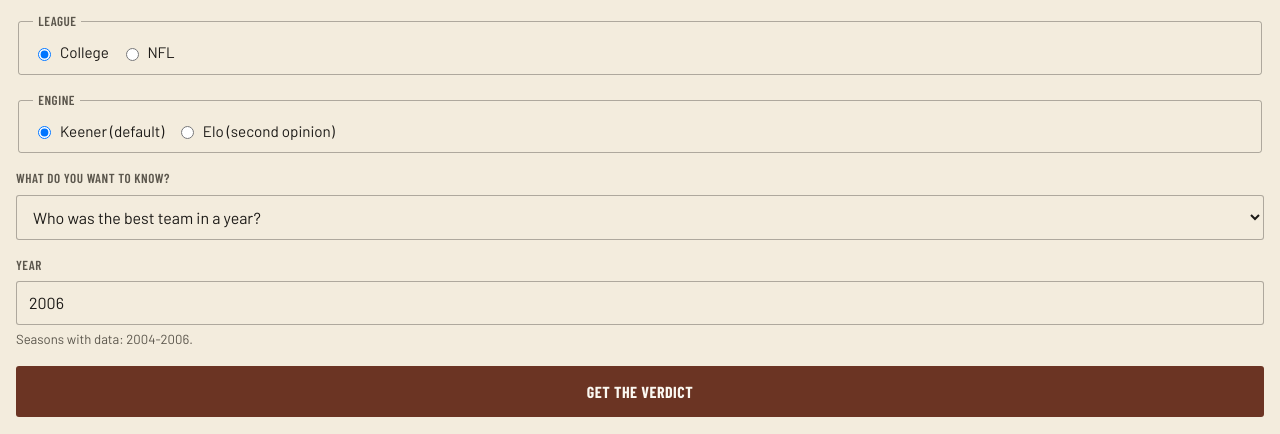
Test: QuestionForm › year default and validation (issue #136) › keeps a year the user typed across a league switch
Type "2005" into the number field labelled "Year" at (640,303), box [16, 281, 1264, 325]
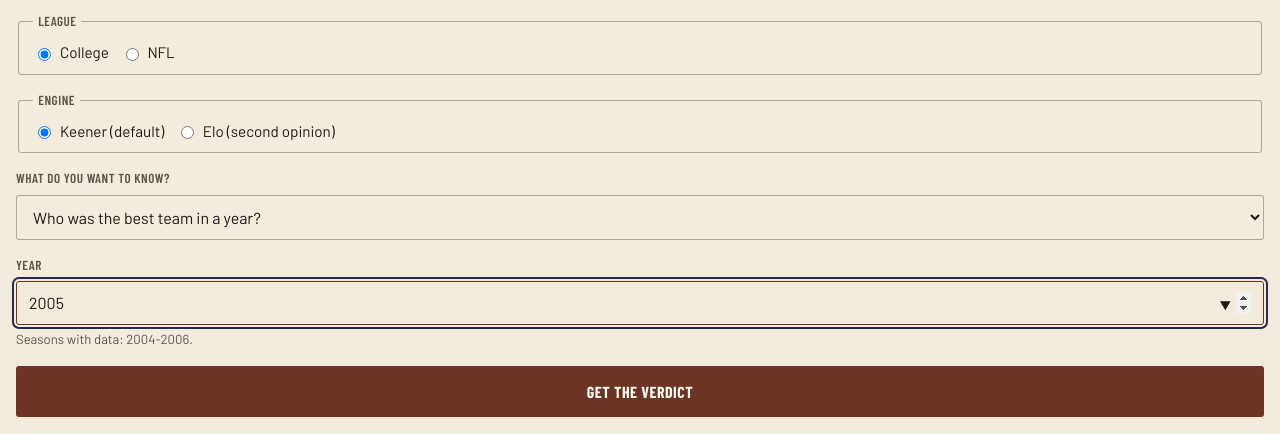
Click the radio button labelled "NFL" at (132,54), box [126, 48, 139, 61]
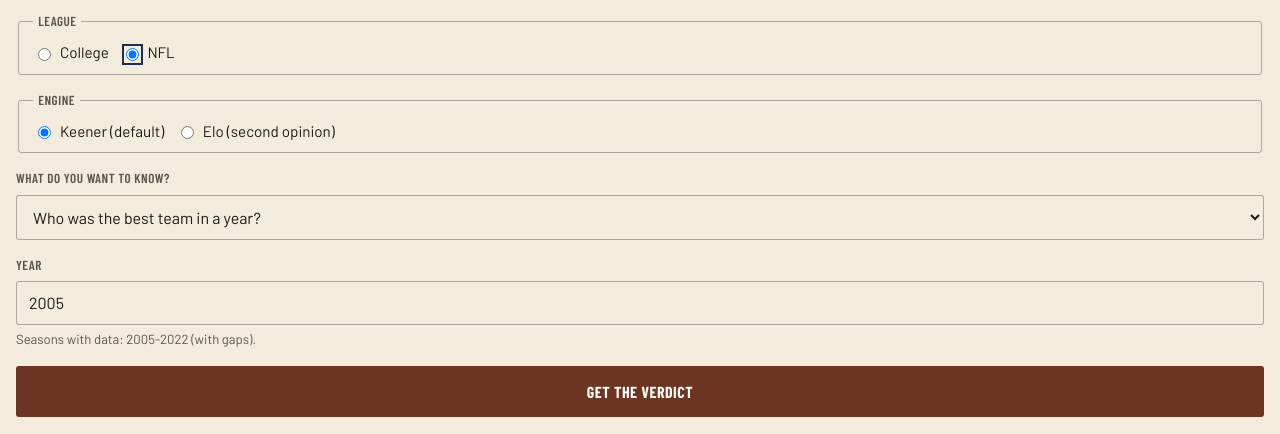
Now the text "Seasons with data: 2005-2022 (with gaps)." is shown, box [16, 331, 256, 347]
